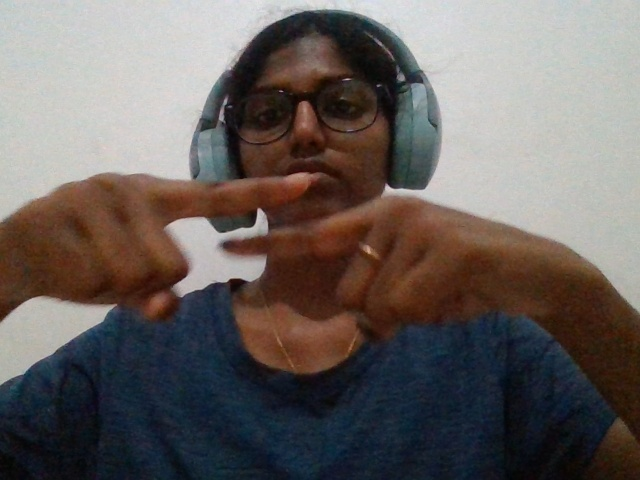Sign: (9, 124, 598, 383)
